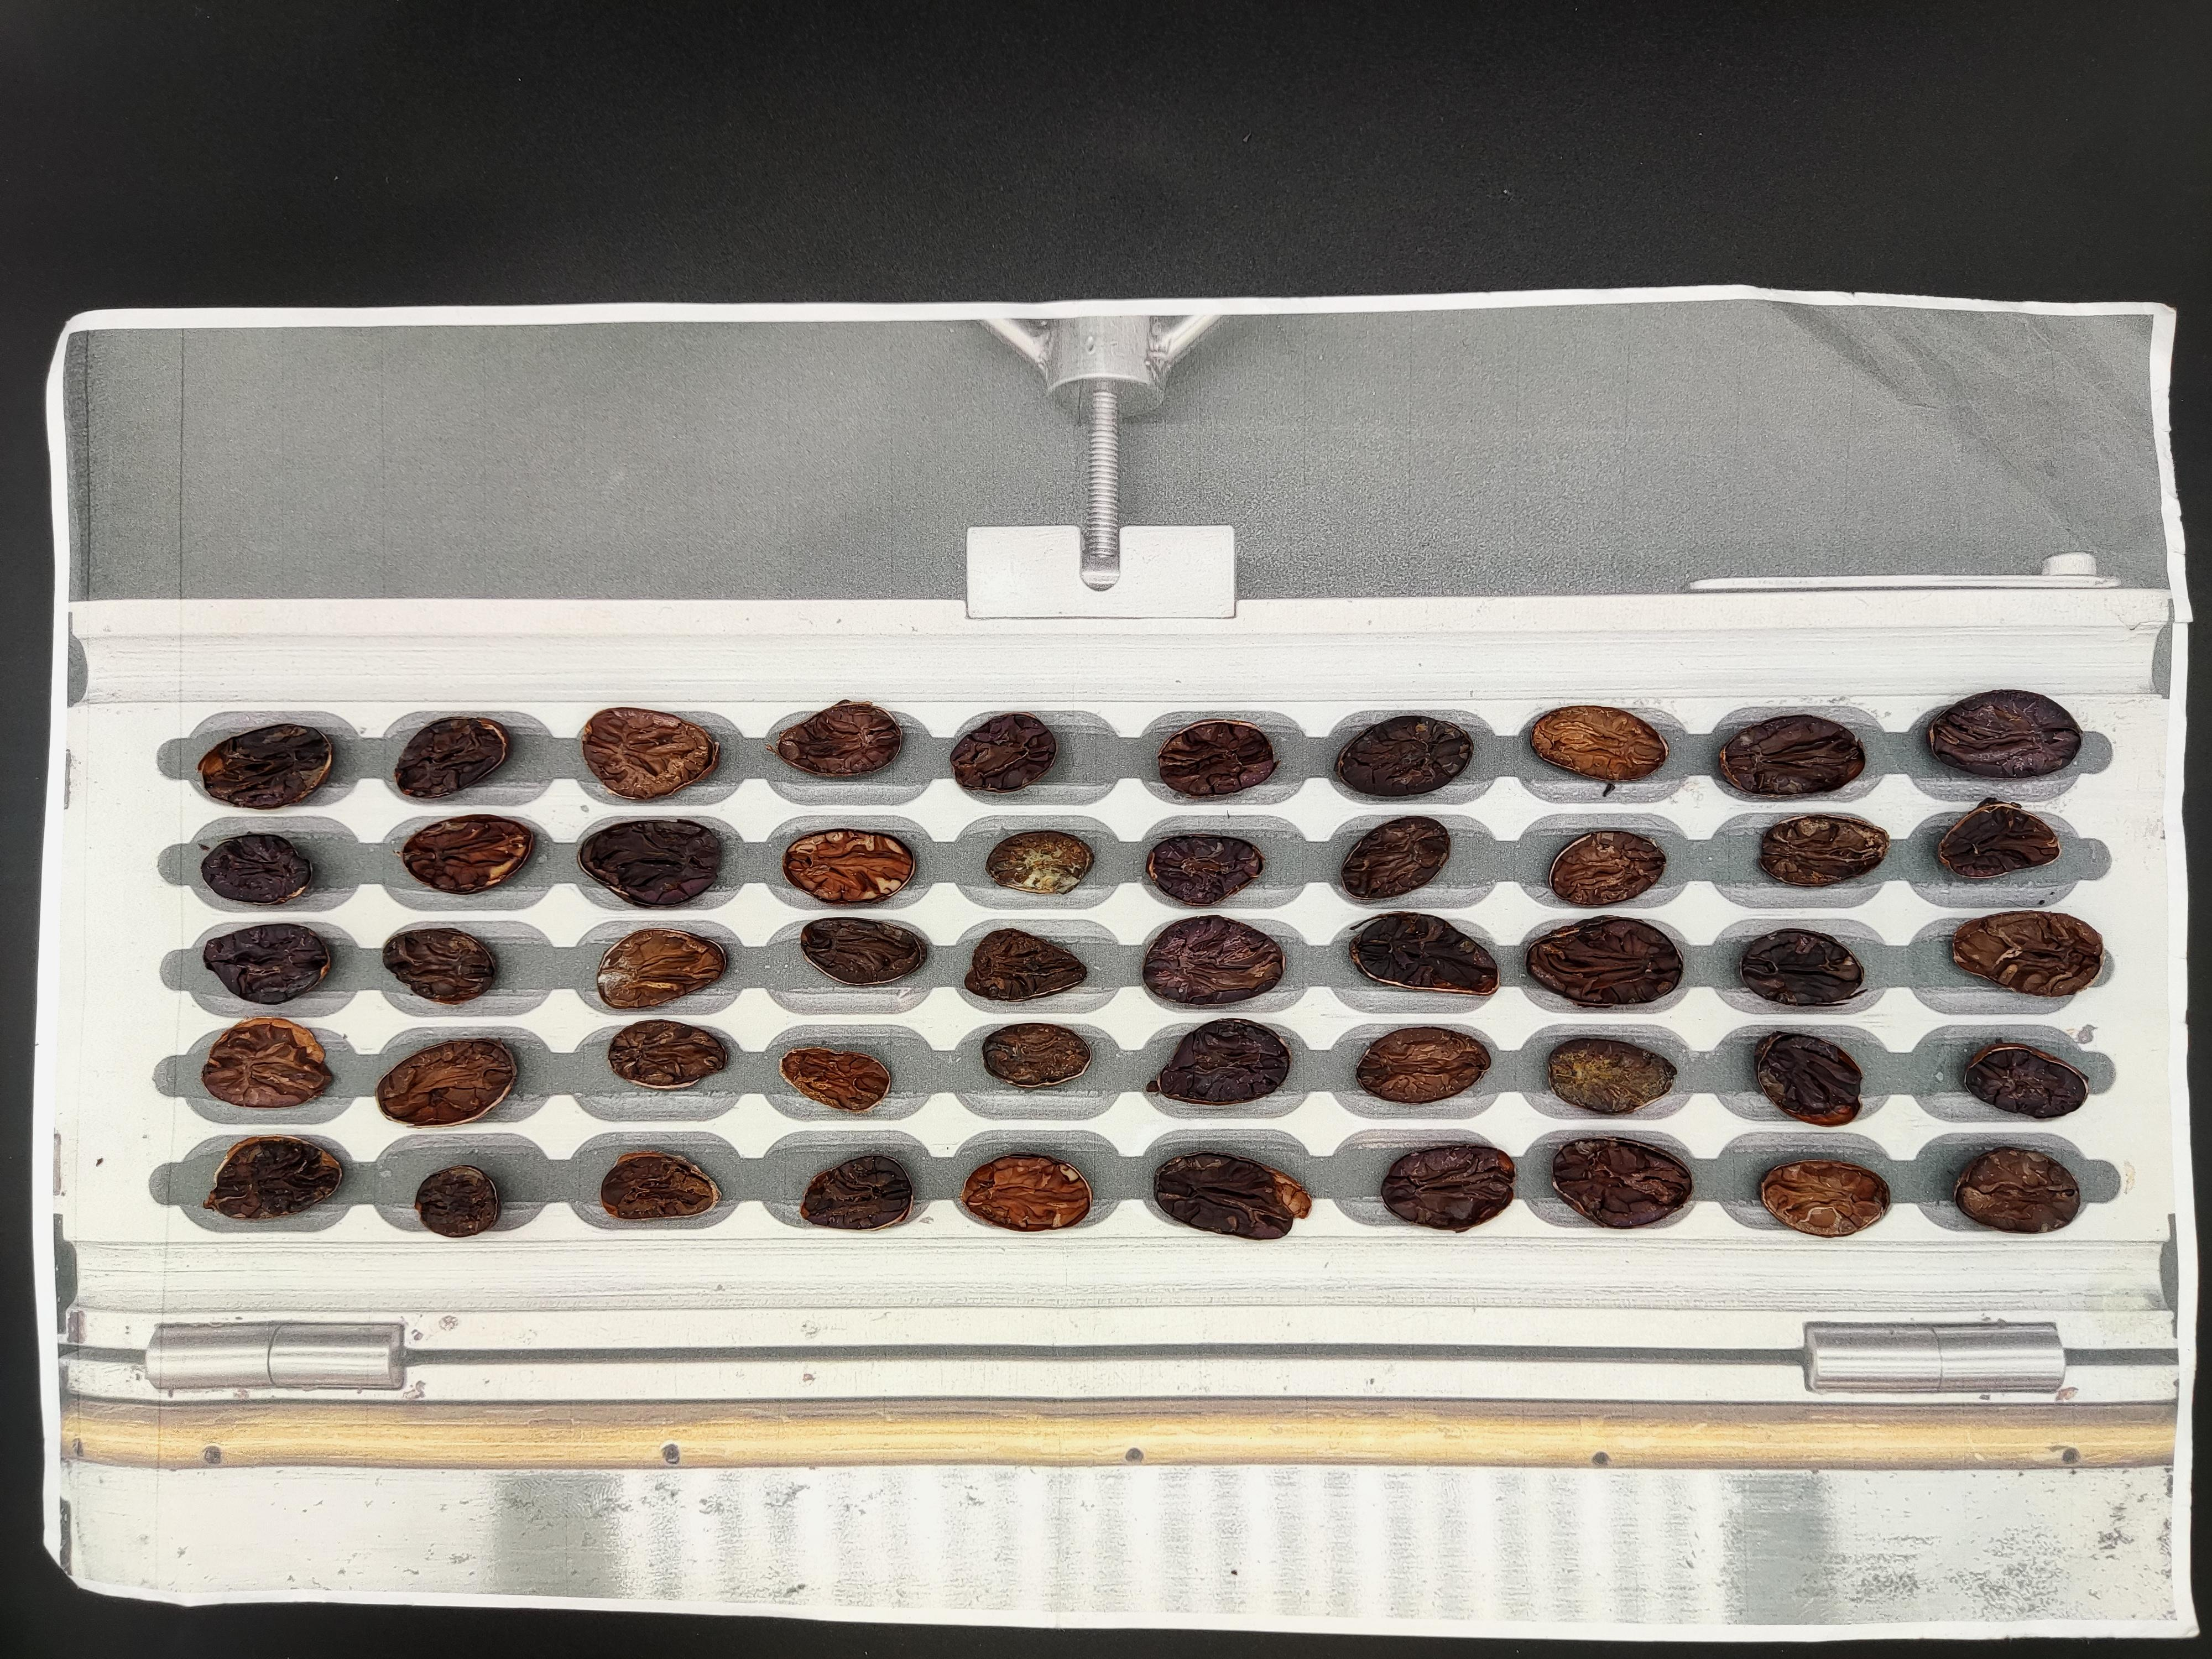Brown - G1: (1857, 467, 1946, 521), (1181, 518, 1252, 573), (1280, 413, 1357, 462), (1568, 589, 1642, 634), (1977, 415, 2050, 457), (1479, 423, 1552, 465), (1388, 521, 1456, 561), (1477, 532, 1541, 573)
Brown - G2: (2073, 462, 2161, 514), (1372, 359, 1451, 411), (1472, 354, 1545, 404), (1979, 591, 2054, 636), (1569, 474, 1641, 518), (1869, 422, 1937, 467)
Brown - G3: (1270, 525, 1350, 580), (2073, 584, 2149, 636), (1858, 359, 1940, 408), (1771, 523, 1848, 572), (1385, 584, 1453, 629)
Brown - G4: (1580, 523, 1642, 561)
Insect-damaged: (1869, 530, 1942, 573)
Mouldy: (1385, 472, 1458, 521), (1580, 422, 1644, 464)
Partly Purple - G1: (1372, 418, 1451, 467), (1670, 366, 1738, 410)
Partly Purple - G2: (1660, 467, 1742, 519), (1958, 362, 2040, 413), (1768, 464, 1850, 514), (1177, 366, 1254, 418), (1784, 584, 1858, 634), (1486, 586, 1554, 634), (1278, 362, 1345, 411), (1566, 361, 1629, 410)
Total Purple - G2: (1181, 467, 1258, 519), (1663, 422, 1733, 467)
Total Purple - G3: (2062, 350, 2149, 404), (1665, 519, 1743, 570), (2080, 530, 2153, 577), (1181, 423, 1244, 469)
Very Dark Brown - G1: (1667, 584, 1756, 640), (1181, 577, 1258, 631), (1975, 525, 2036, 582)
Very Dark Brown - G2: (1871, 580, 1951, 634), (1970, 471, 2040, 519), (1763, 415, 1825, 465), (2069, 408, 2139, 453), (1275, 472, 1338, 516)
Very Dark Brown - G3: (1759, 362, 1838, 415), (1486, 467, 1557, 511), (1289, 594, 1343, 640)
